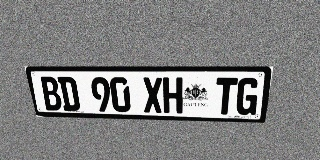0: (109, 77, 131, 112)
9: (90, 77, 112, 112)
B: (39, 77, 63, 111)
D: (57, 77, 81, 111)
G: (235, 78, 260, 115)
H: (163, 77, 183, 113)
T: (214, 78, 238, 115)
X: (142, 77, 163, 113)
